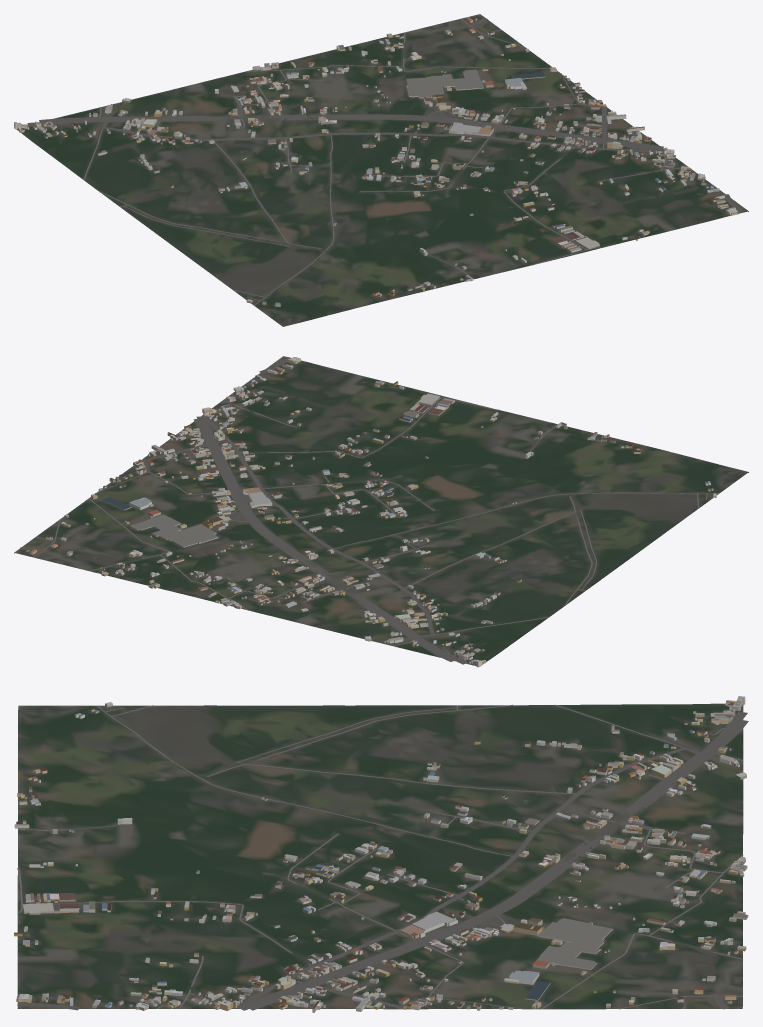
The picture shows the model from 3 angles, top to bottom: view 1: azimuth 30°, elevation 25°; view 2: azimuth 150°, elevation 25°; view 3: azimuth 270°, elevation 25°; orthographic projection. The views are drawn at different scales.
Visible parts, largest first — view 1: ground, buildings, roads; view 2: ground, buildings, roads; view 3: ground, buildings, roads.
Part boxes in pixels (x1,y1,x2,y2): ground: (16, 14, 748, 326); buildings: (14, 17, 738, 306); roads: (27, 17, 743, 305); ground: (14, 356, 748, 665); buildings: (26, 357, 716, 667); roads: (19, 357, 719, 664); ground: (17, 703, 743, 1009); buildings: (14, 696, 748, 1012); roads: (17, 704, 748, 1010).
Bounding box in the file's own units: 1422 × 24.25 × 1419.
